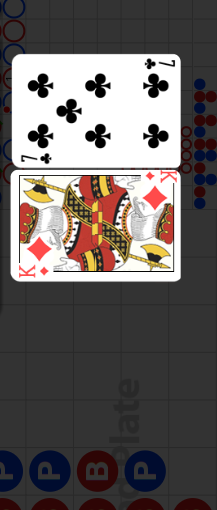7C: (142, 56, 177, 71)
KD: (17, 265, 50, 280)
